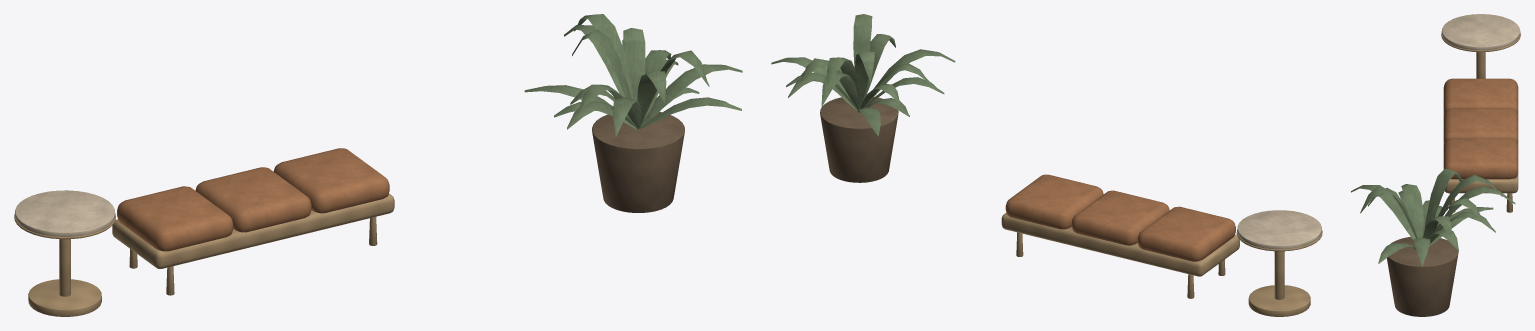
File: desert-furniture.glb
3 views of the same model, side by side, from view 1: azimuth 30°, elevation 25°; view 2: azimuth 150°, elevation 25°; view 3: azimuth 270°, elevation 25° (orthographic). The views are drawn at different scales.
Parts seen in each view (by area): view 1: Individual tailored seat cushion, Sculpted agave leaf, Floating bench frame, Thrown ceramic planter, Honed stone side table; view 2: Individual tailored seat cushion, Sculpted agave leaf, Floating bench frame, Thrown ceramic planter, Honed stone side table; view 3: Individual tailored seat cushion, Sculpted agave leaf, Thrown ceramic planter, Honed stone side table, Floating bench frame.
Boxes of the visible parts, x1,y1,x2,y2 form: Individual tailored seat cushion: (117,148,389,251); Sculpted agave leaf: (524,14,742,136); Floating bench frame: (14,193,394,316); Thrown ceramic planter: (592,111,684,212); Honed stone side table: (15,190,115,236); Individual tailored seat cushion: (1005,174,1235,261); Sculpted agave leaf: (771,14,955,136); Floating bench frame: (1001,212,1322,316); Thrown ceramic planter: (820,96,898,182); Honed stone side table: (1237,210,1321,249); Individual tailored seat cushion: (1443,78,1518,179); Sculpted agave leaf: (1351,168,1515,266); Thrown ceramic planter: (1387,236,1458,316); Honed stone side table: (1441,14,1520,50); Floating bench frame: (1441,33,1520,212).
Size of the model in its own units: 4.73 by 1.06 by 1.3.
Materials: 6 (6 with a texture image).
